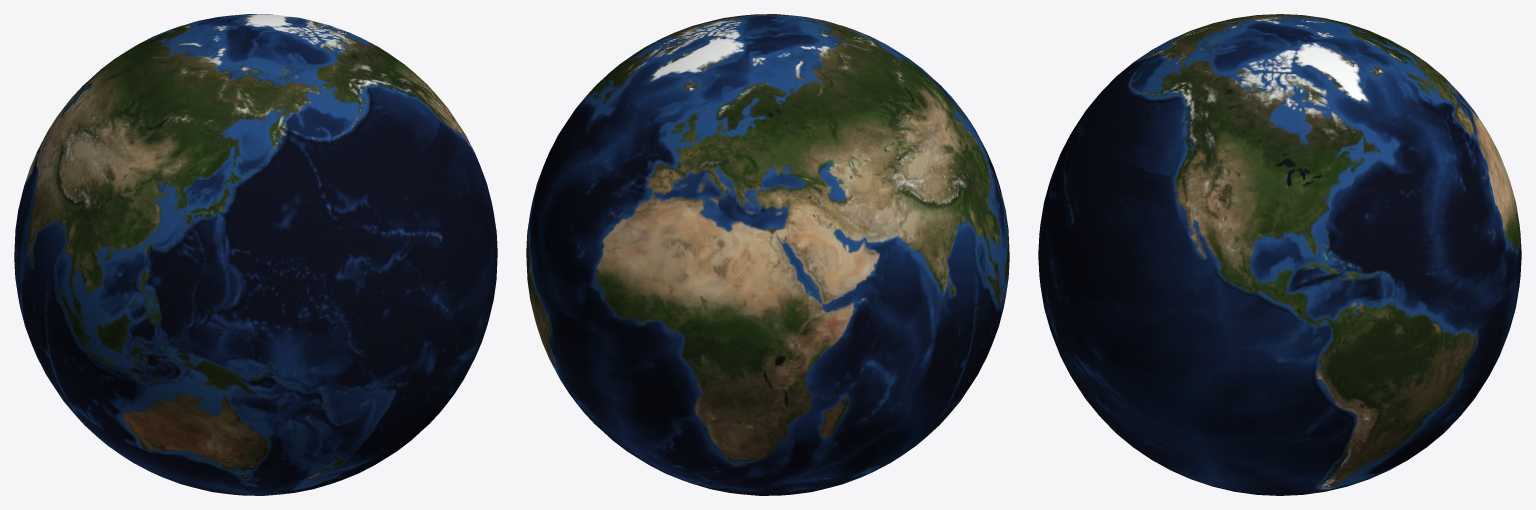
Rendered from compressed_earth2.glb.
3 renders of one model, left to right at view 1: azimuth 30°, elevation 25°; view 2: azimuth 150°, elevation 25°; view 3: azimuth 270°, elevation 25°, orthographic.
Parts seen in each view (by area): view 1: object; view 2: object; view 3: object.
Boxes of the visible parts, x1=… form: object: x1=14, y1=14, x2=497, y2=495; object: x1=526, y1=14, x2=1009, y2=495; object: x1=1038, y1=14, x2=1521, y2=495.
Bounding box in the file's own units: 1000 × 997 × 1000.
Materials: 1 (1 with a texture image).
